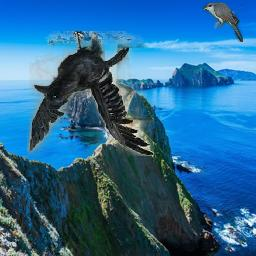Crow: (28, 32, 155, 157)
Cuckoo: (203, 2, 243, 42)
